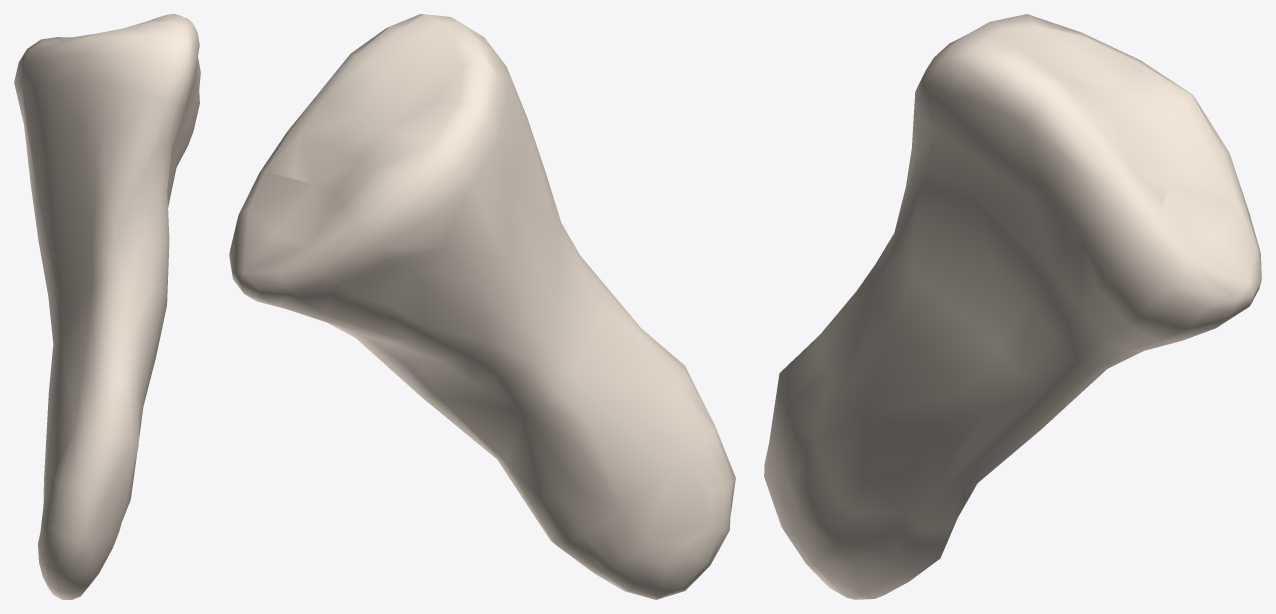
Rendered from right_digit_1_distal.glb.
3 views of the same model, side by side, from view 1: azimuth 30°, elevation 25°; view 2: azimuth 150°, elevation 25°; view 3: azimuth 270°, elevation 25° (orthographic). The views are drawn at different scales.
Visible parts, largest first — view 1: Distal phalanx of 1st finger.r; view 2: Distal phalanx of 1st finger.r; view 3: Distal phalanx of 1st finger.r.
Boxes of the visible parts, <box> form: Distal phalanx of 1st finger.r: <box>14,14,200,599</box>; Distal phalanx of 1st finger.r: <box>229,14,735,599</box>; Distal phalanx of 1st finger.r: <box>764,14,1261,599</box>.
Bounding box in the file's own units: 0.0133 × 0.0227 × 0.0158.
